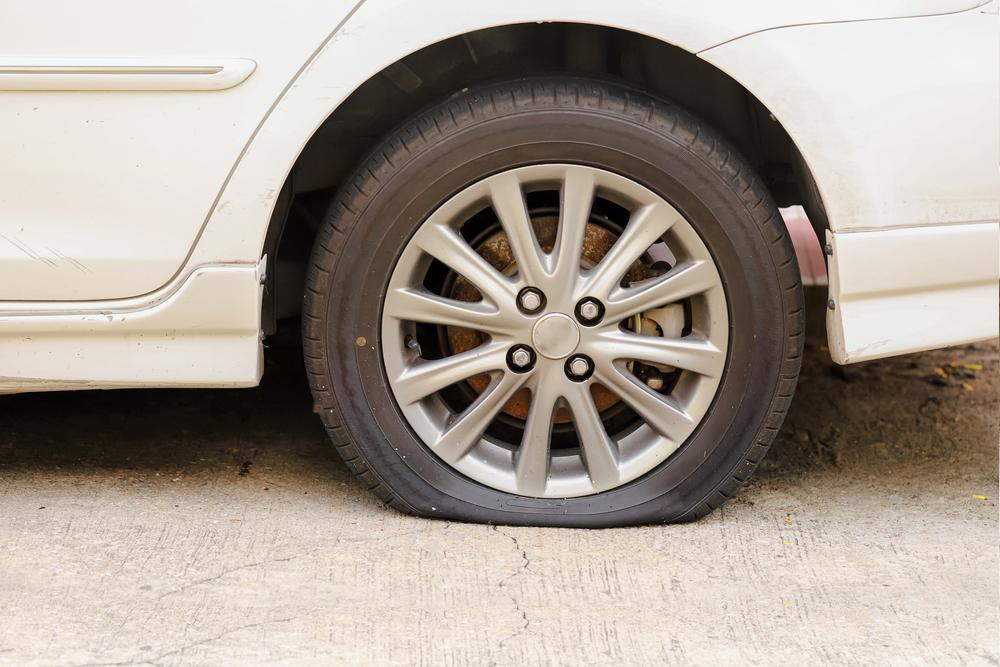tire flat: (303, 74, 808, 530)
